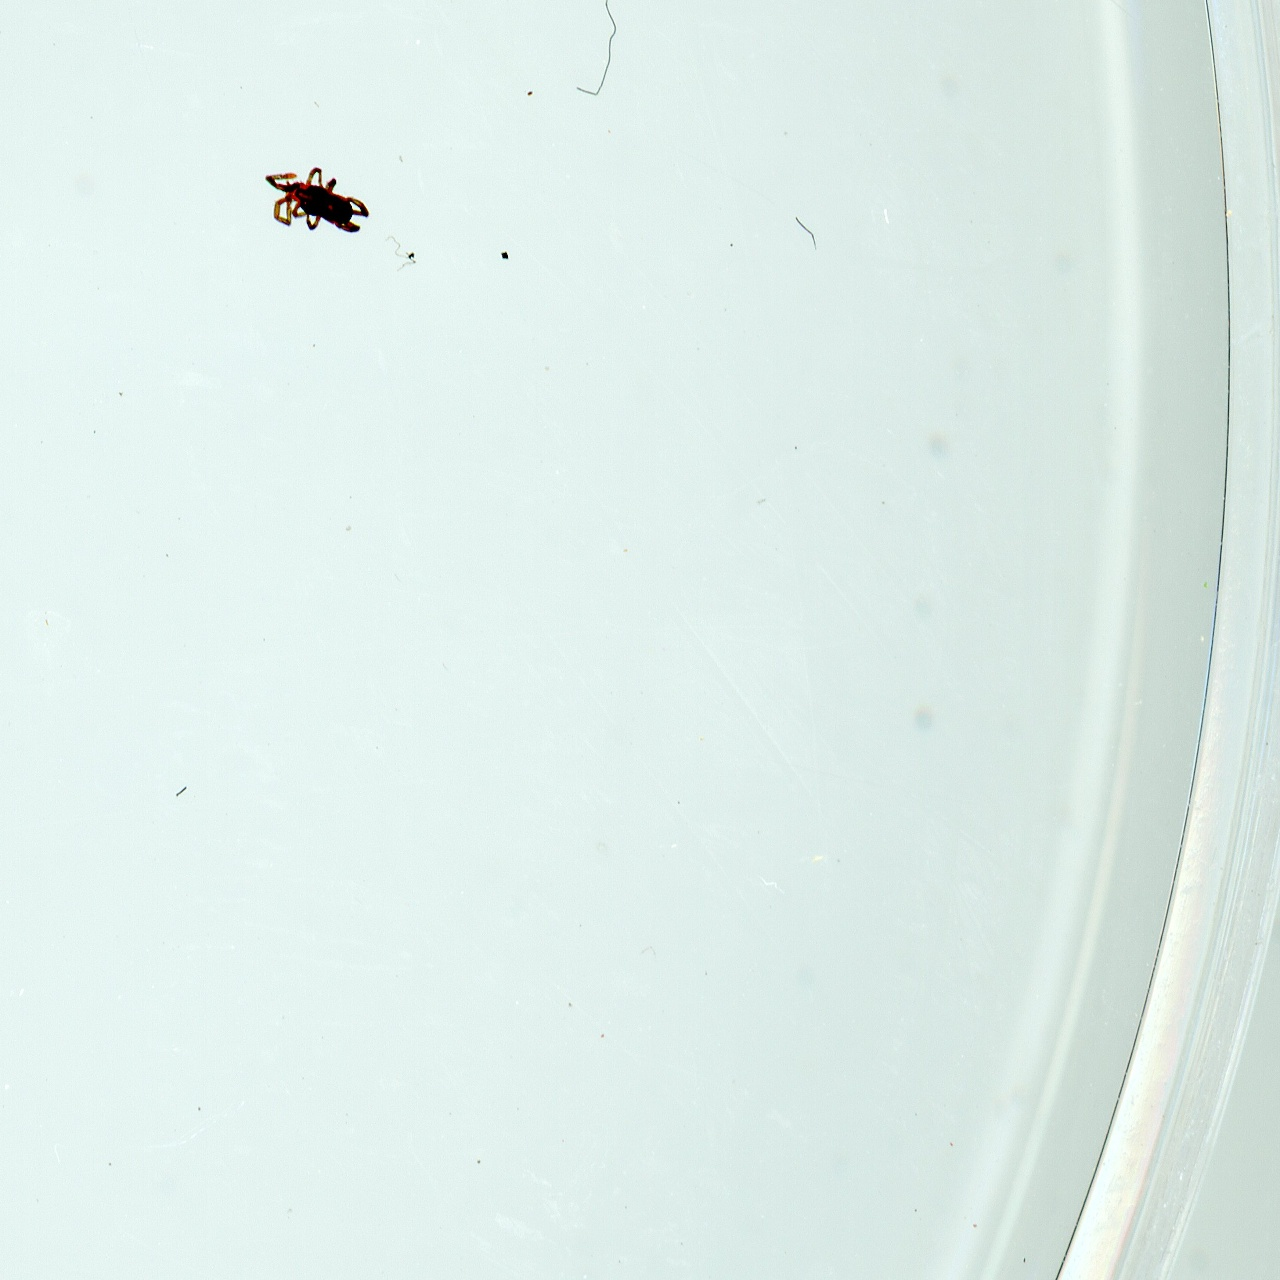arthropod: (263, 164, 373, 239)
